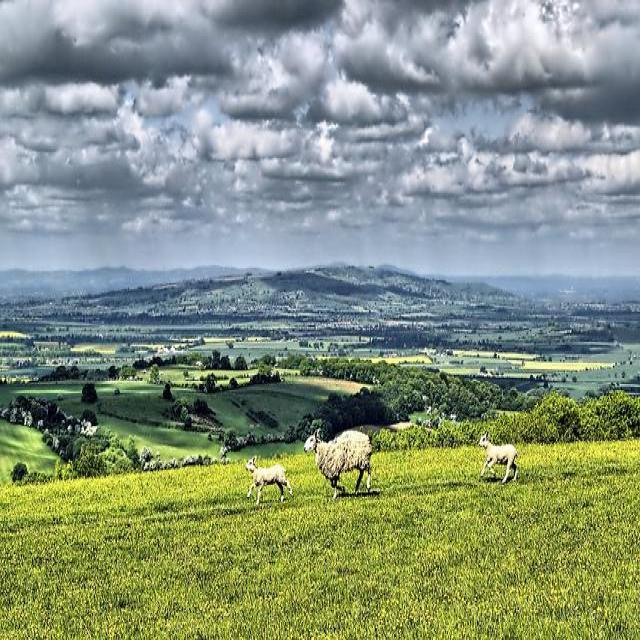Sheep: (305, 431, 371, 498), (245, 456, 296, 506), (479, 431, 519, 485)
